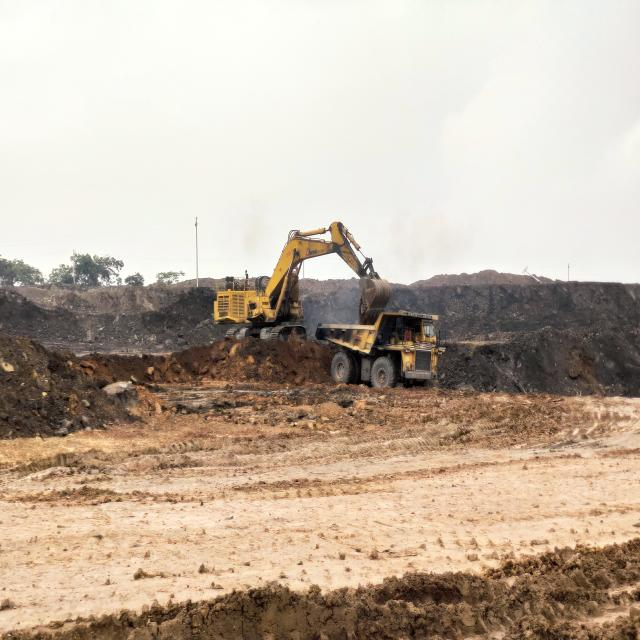dump_truck: (313, 309, 448, 391)
excavator: (207, 217, 393, 344)
